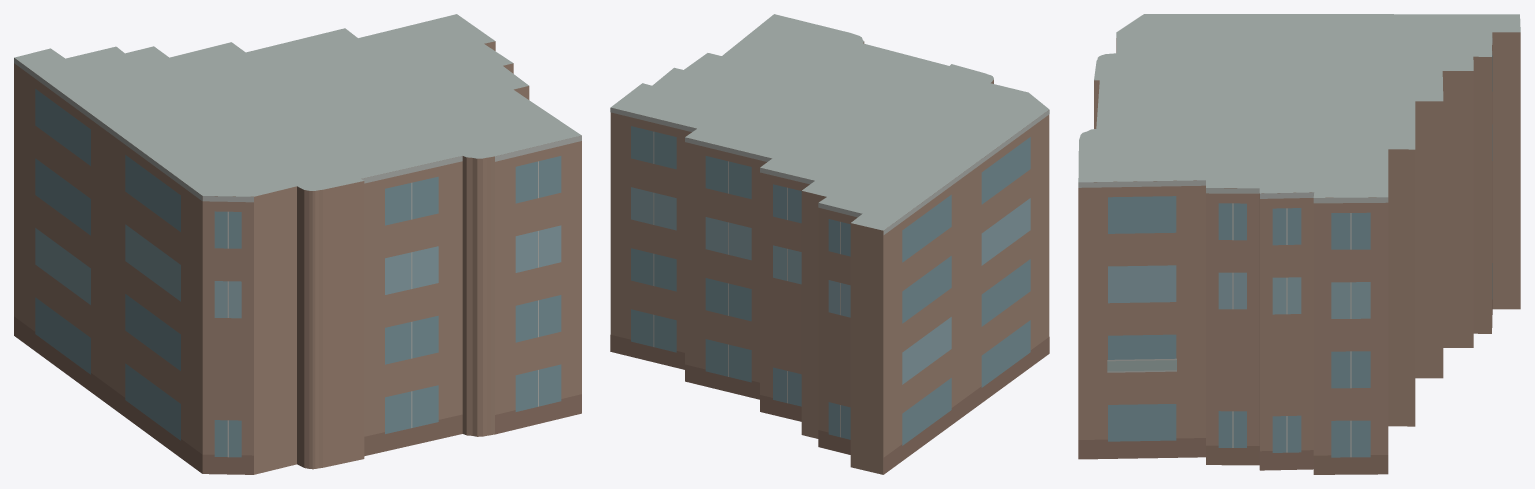
File: survey-upis-32778834.glb
3 renders of one model, left to right at view 1: azimuth 30°, elevation 25°; view 2: azimuth 150°, elevation 25°; view 3: azimuth 270°, elevation 25°, orthographic. The views are drawn at different scales.
Parts seen in each view (by area): view 1: survey-upis-32778834.tmp; view 2: survey-upis-32778834.tmp; view 3: survey-upis-32778834.tmp.
Boxes of the visible parts, left/top/right/bottom form: survey-upis-32778834.tmp: left=14, top=14, right=581, bottom=474; survey-upis-32778834.tmp: left=610, top=14, right=1049, bottom=474; survey-upis-32778834.tmp: left=1078, top=14, right=1520, bottom=474.
Bounding box in the file's own units: 17.52 × 12.3 × 17.8.
